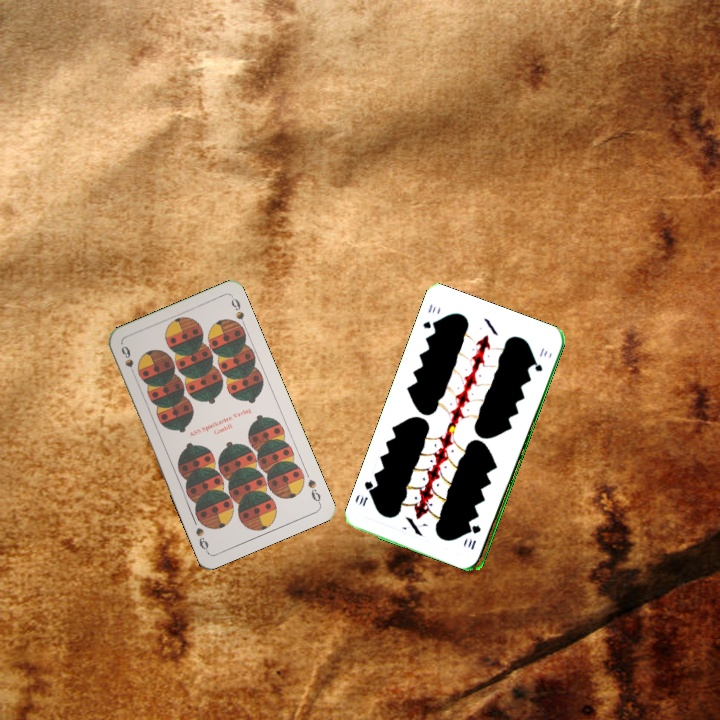G10: (419, 300, 440, 332), (467, 521, 484, 552)
S9: (117, 341, 139, 380), (304, 475, 324, 507)
